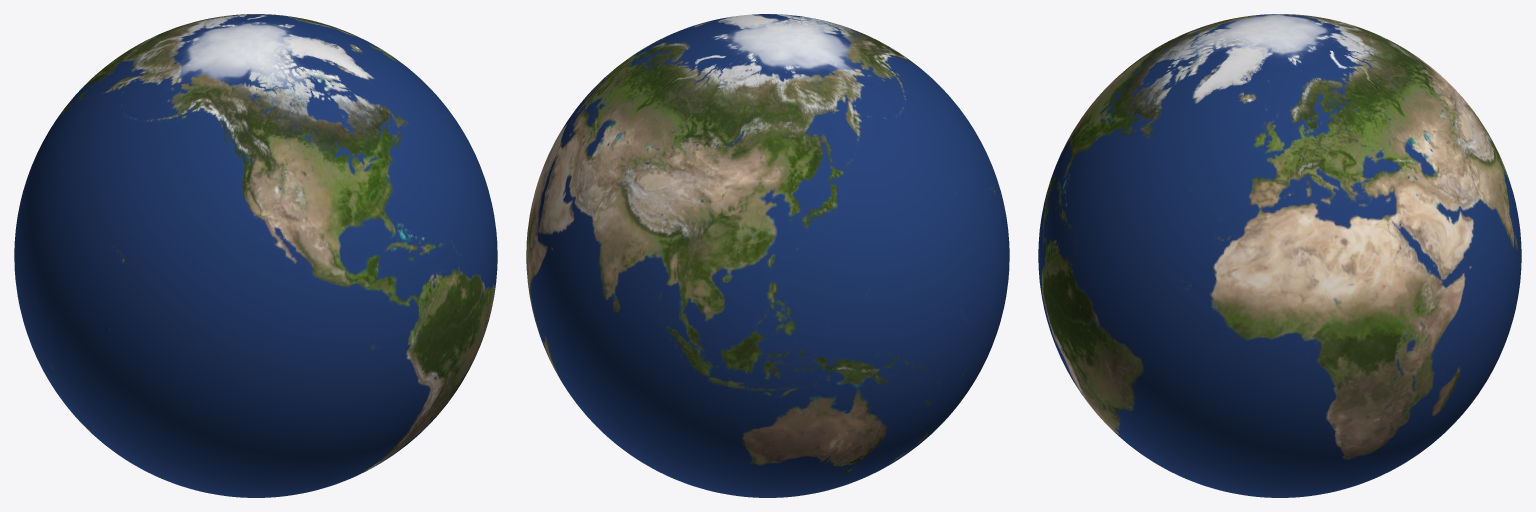
Rendered from earth_Model.fbx.
3 renders of one model, left to right at view 1: azimuth 30°, elevation 25°; view 2: azimuth 150°, elevation 25°; view 3: azimuth 270°, elevation 25°, orthographic.
Visible parts, largest first — view 1: Sphere; view 2: Sphere; view 3: Sphere.
Boxes of the visible parts, x1,y1,x2,y2 form: Sphere: (14,14,497,497); Sphere: (526,14,1009,497); Sphere: (1038,14,1521,497).
Bounding box in the file's own units: 199 × 200 × 199.
